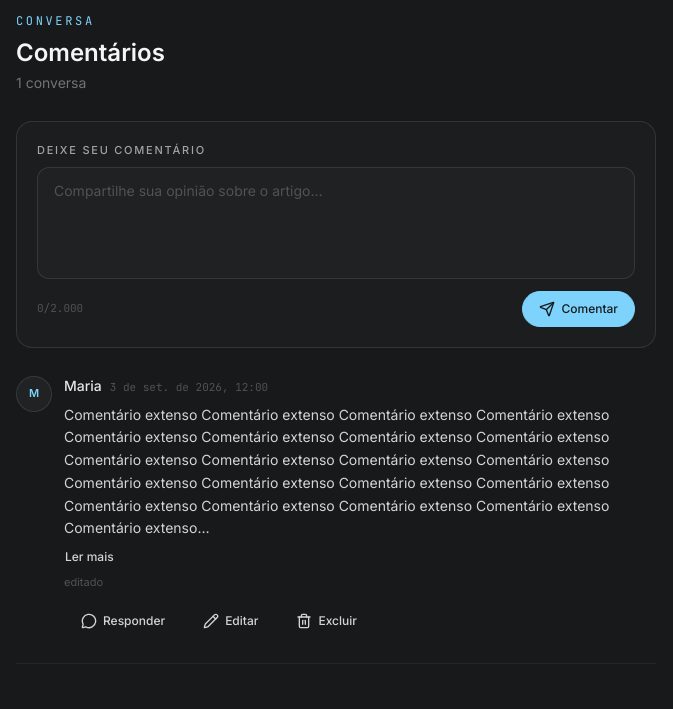
Test case: seção de comentários › resume comentários longos e permite expandir e recolher o texto
Click the button "Ler mais".
click(89, 557)  # box top-left (64, 544), bottom-right (115, 570)
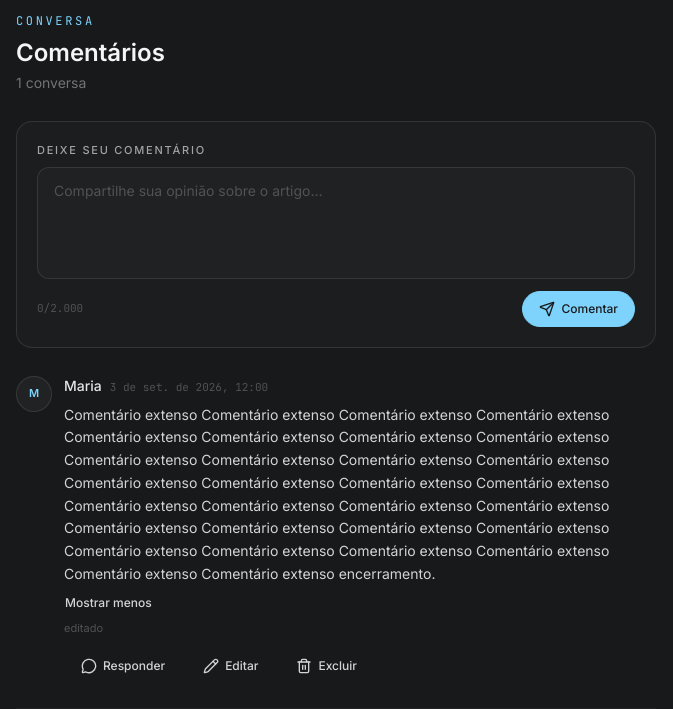
Now the text "encerramento" is shown, box top-left (64, 406), bottom-right (613, 582)
Click the button "Mostrar menos".
click(108, 602)  # box top-left (64, 590), bottom-right (153, 616)
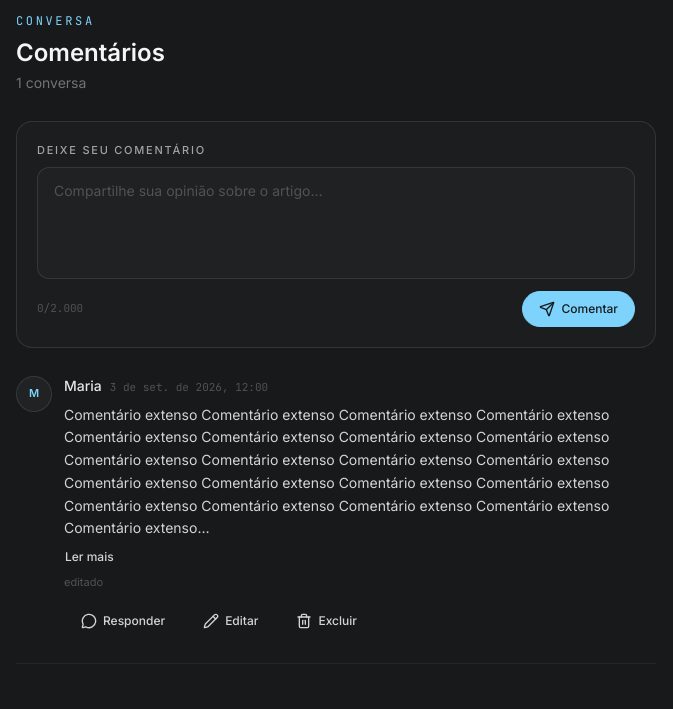
Now the text "encerramento" is gone
